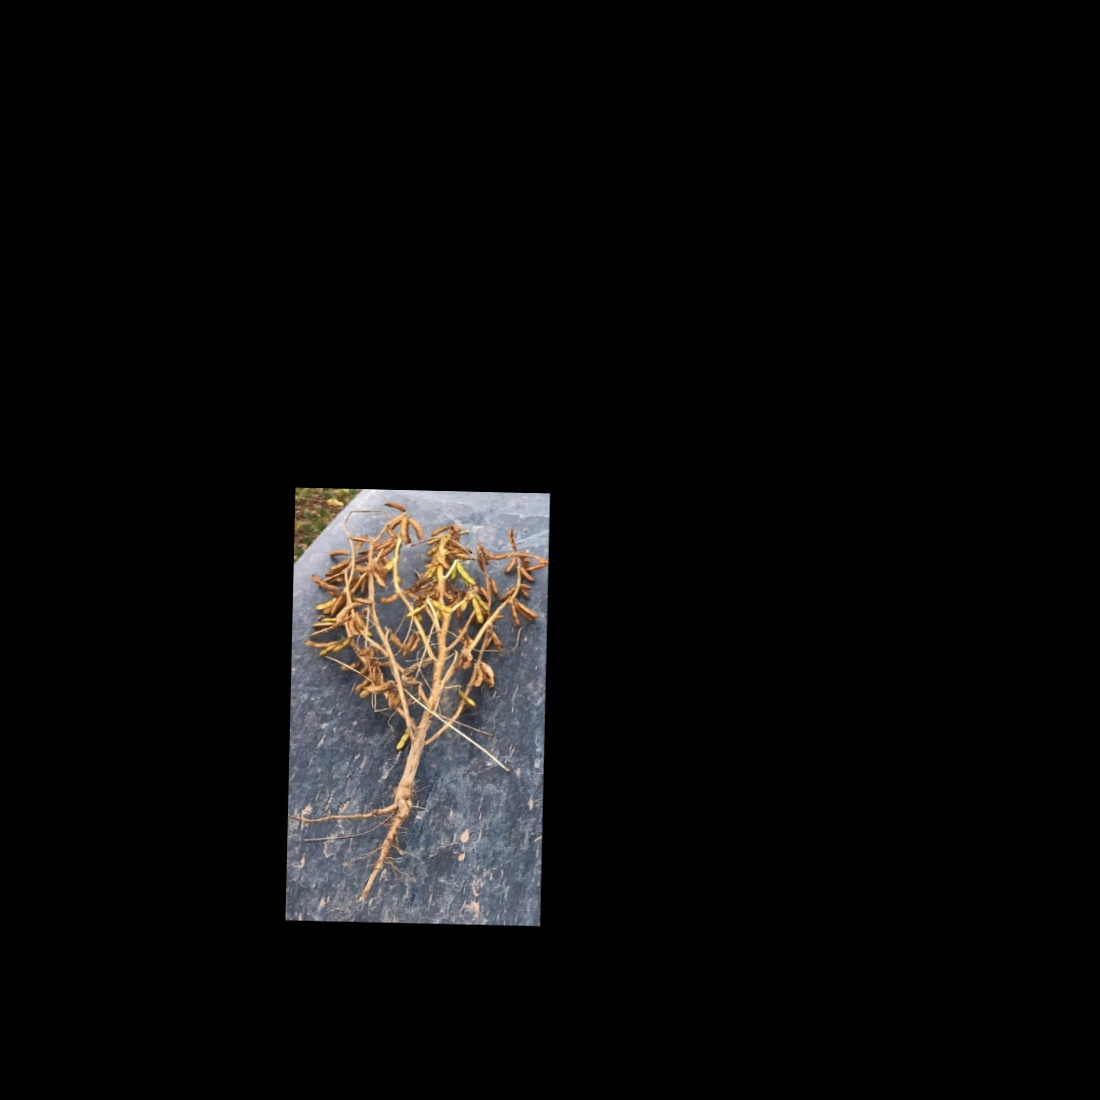pod: (454, 558, 477, 586), (307, 573, 340, 590), (466, 594, 485, 626), (406, 516, 425, 543), (362, 681, 396, 695), (381, 498, 408, 514), (331, 636, 353, 656), (500, 555, 519, 577), (508, 600, 522, 629), (377, 593, 403, 606), (427, 524, 452, 537), (519, 566, 537, 584), (325, 548, 351, 560)
soy: (297, 496, 544, 893)
